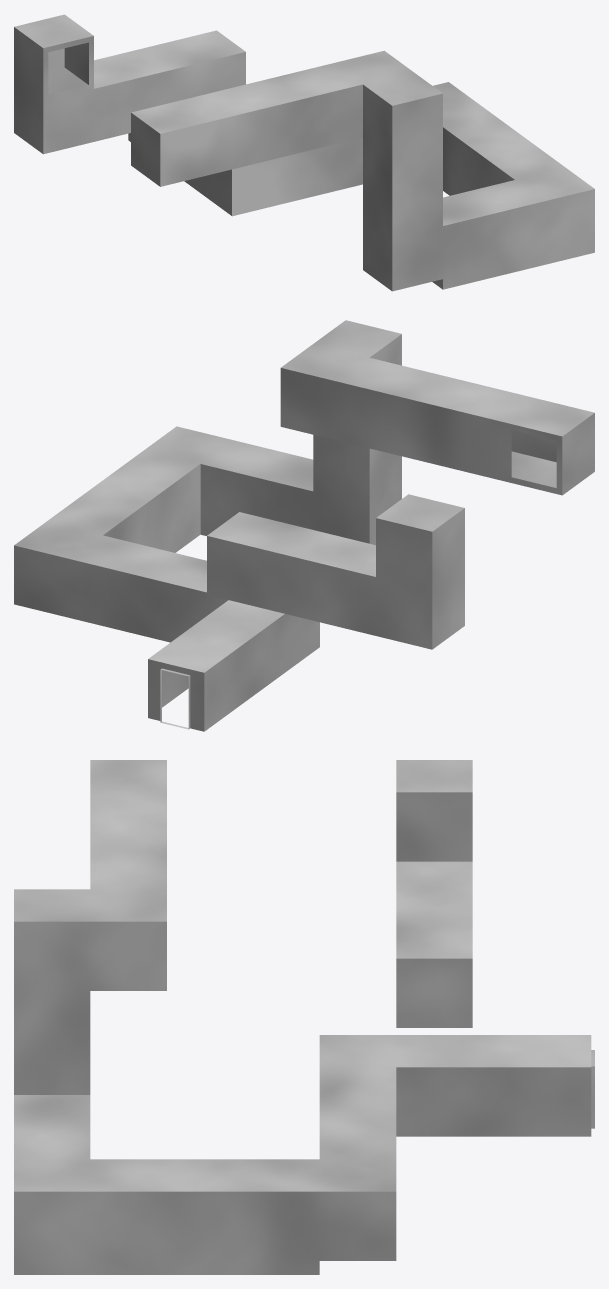
The model's file is Level2.4.obj.
The picture shows the model from 3 angles, top to bottom: view 1: azimuth 30°, elevation 25°; view 2: azimuth 150°, elevation 25°; view 3: azimuth 270°, elevation 25°; orthographic projection. The views are drawn at different scales.
Visible parts, largest first — view 1: Level2.4; view 2: Level2.4; view 3: Level2.4.
Part boxes in pixels (x1=…): Level2.4: x1=14, y1=14, x2=594, y2=291; Level2.4: x1=14, y1=320, x2=594, y2=731; Level2.4: x1=14, y1=760, x2=594, y2=1274.
Size of the model in its own units: 40 by 18.5 by 38.
Materials: 1 (1 with a texture image).
